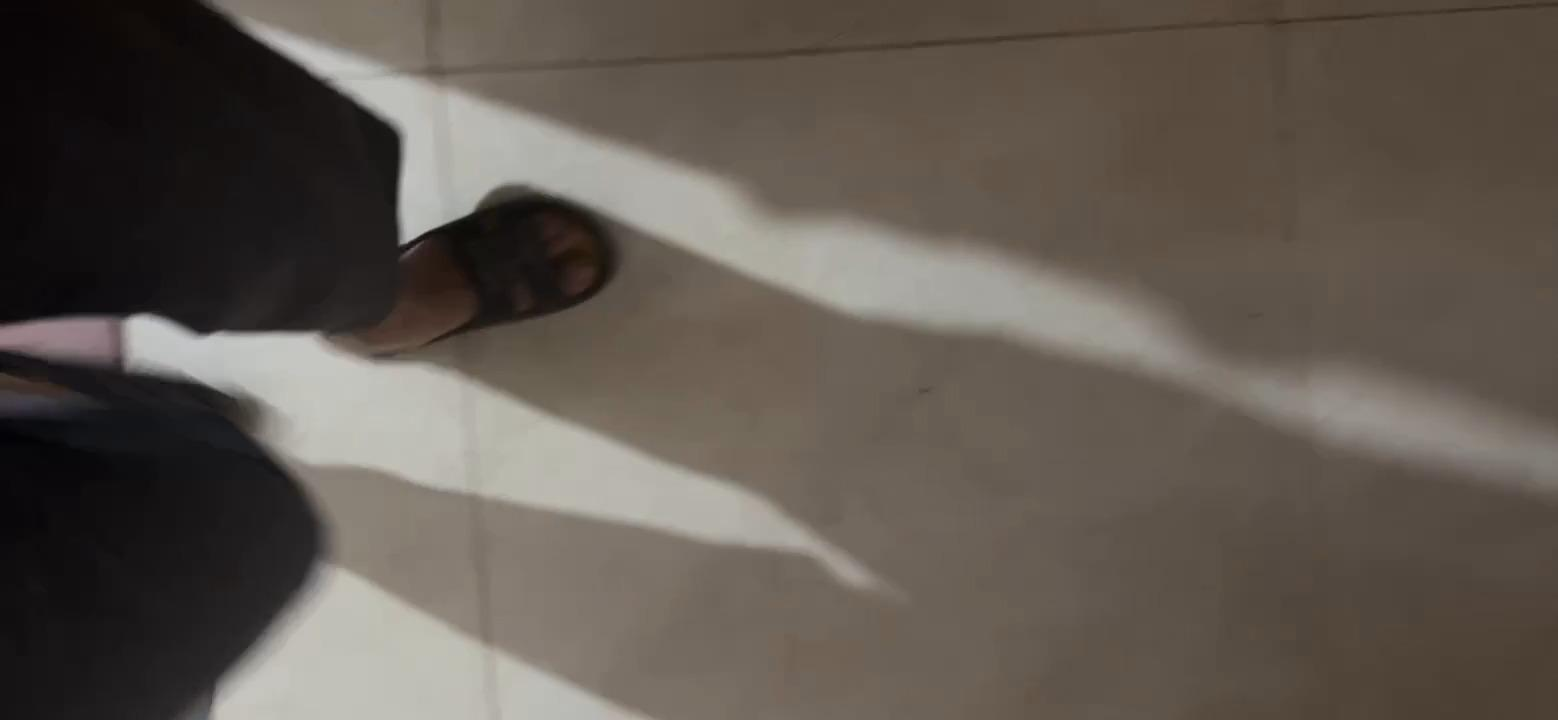no-boot: (319, 189, 615, 336)
